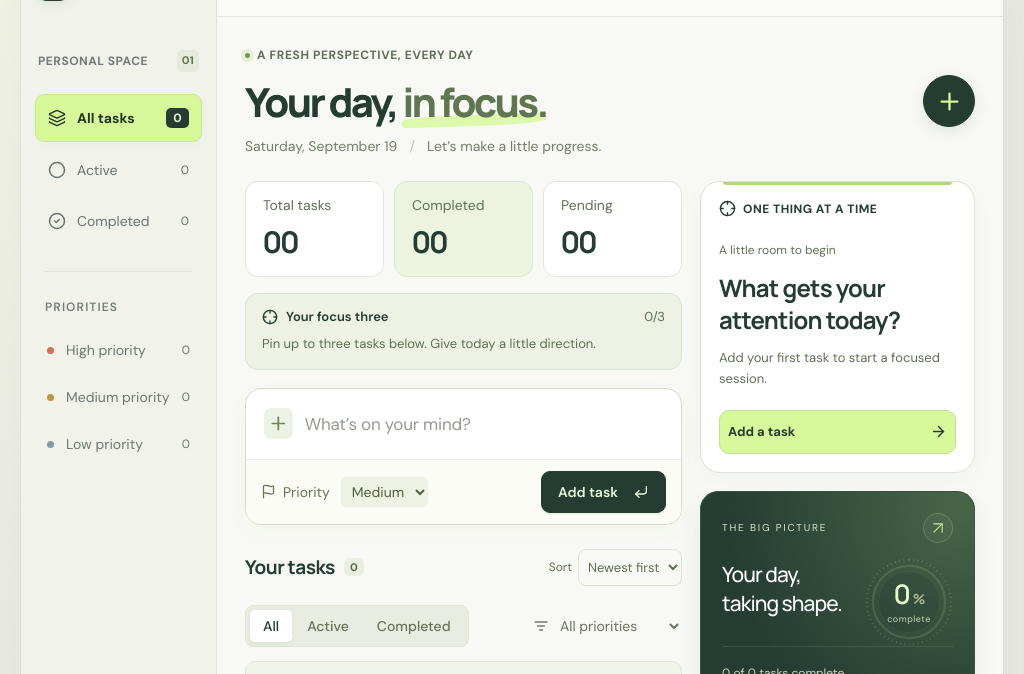
Scenario: Required task flows › rejects blank titles and persists a task with its selected priority
This screenshot has width=1024, height=674.
Click the button "Add task": [604, 492] box [541, 471, 666, 513]
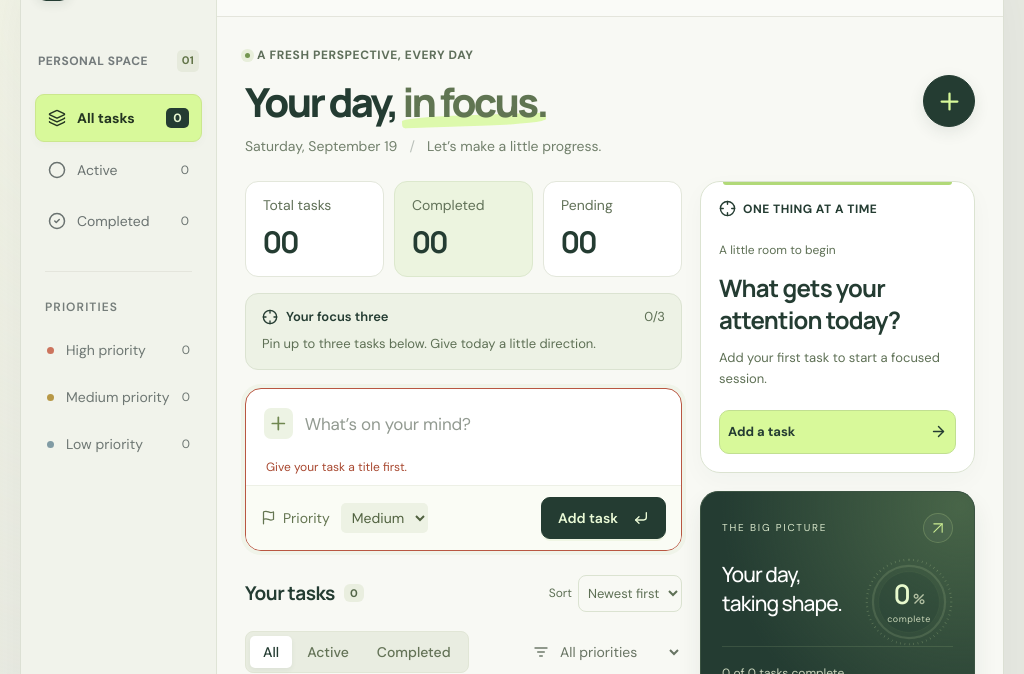
Expected: the message shows "title first", [266, 459, 407, 475]
In the field named "New task title": [484, 424] box [305, 407, 663, 441], type "Ship demo"
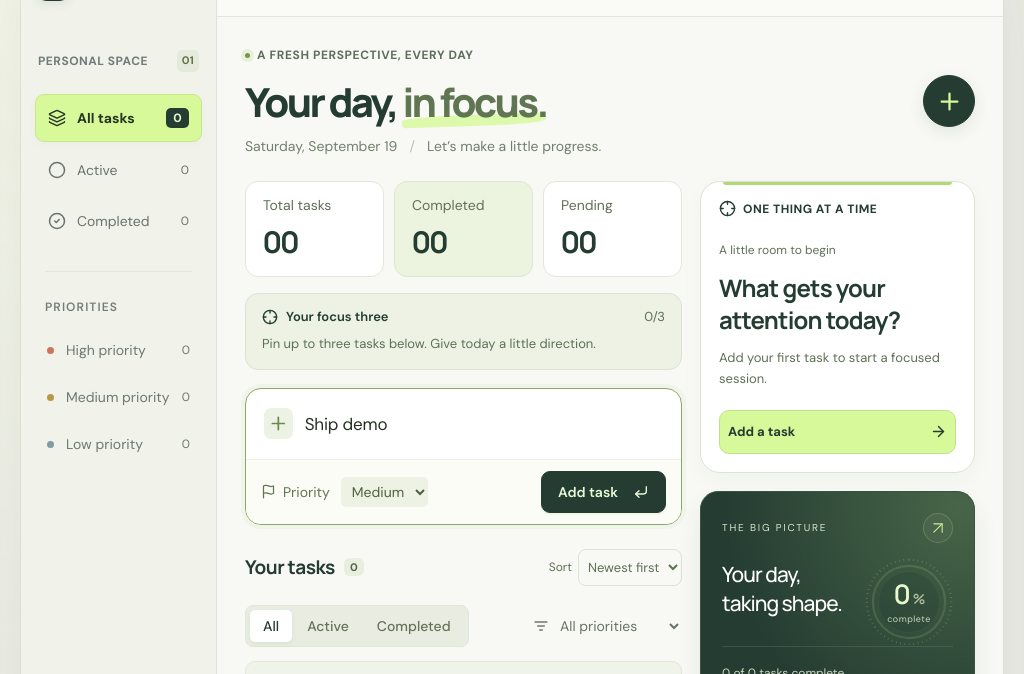
Select "High" in the dropdown labelled "Priority": [384, 492] box [341, 477, 428, 507]
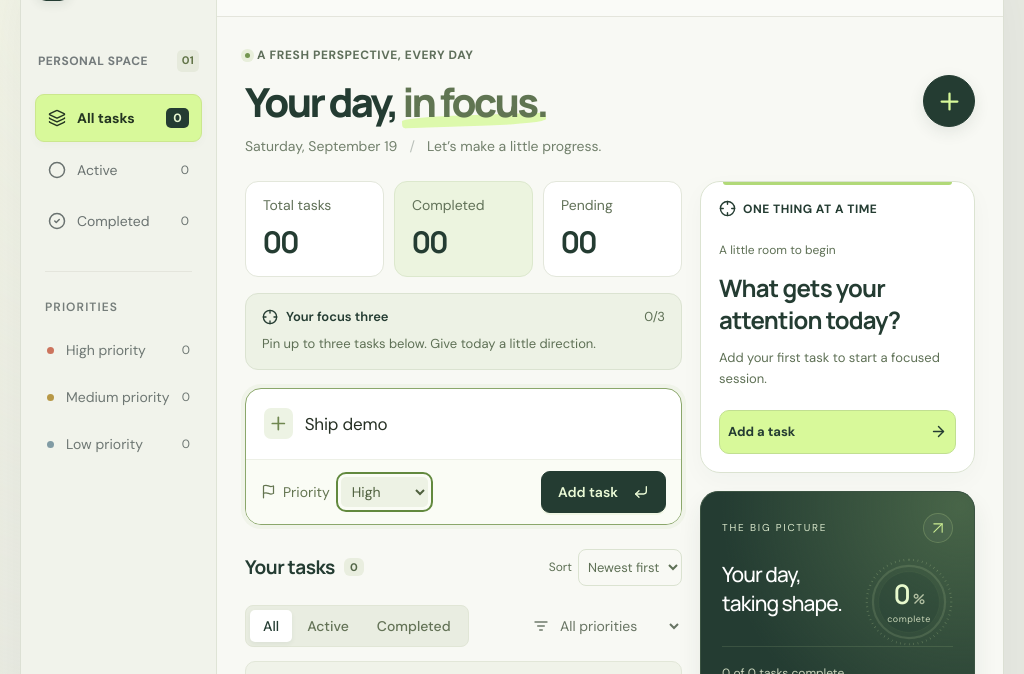
Click the button "Add task": [604, 492] box [541, 471, 666, 513]
(page scrolled)
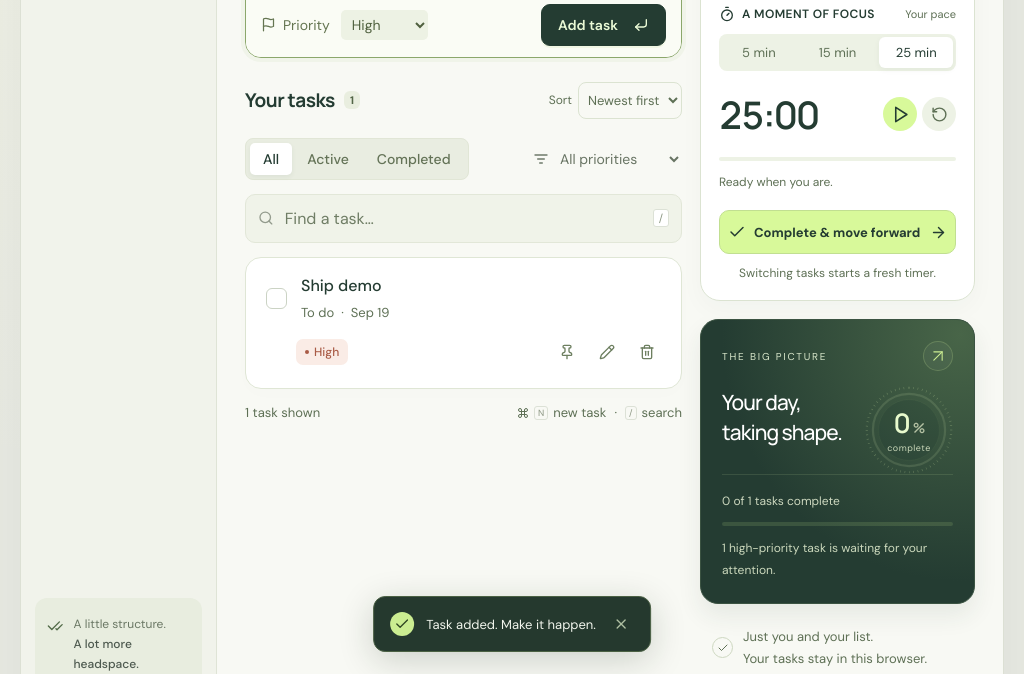
Expected: the checkbox named "Mark Ship demo as completed" is not checked, [266, 288, 286, 309]
